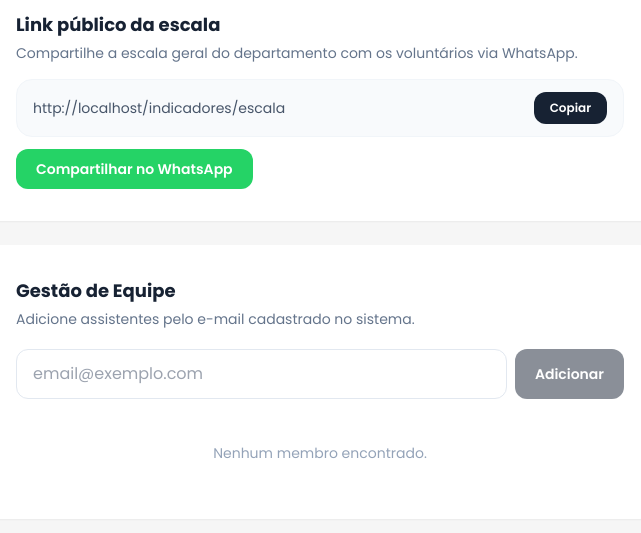
Scenario: Configuracoes › shows error when the email is not found
This screenshot has width=641, height=533.
Type "nobody@example.com" into the field with placeholder "email@exemplo.com" at (261, 374), box [16,349,507,399]
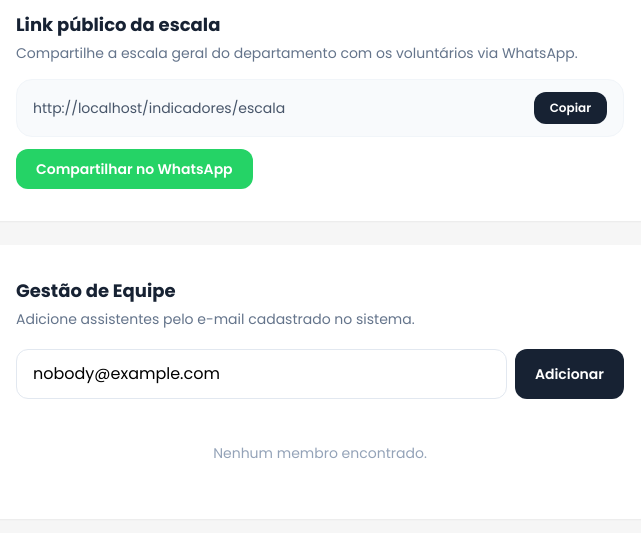
Click the button "Adicionar" at (569, 374), box [515,349,624,399]
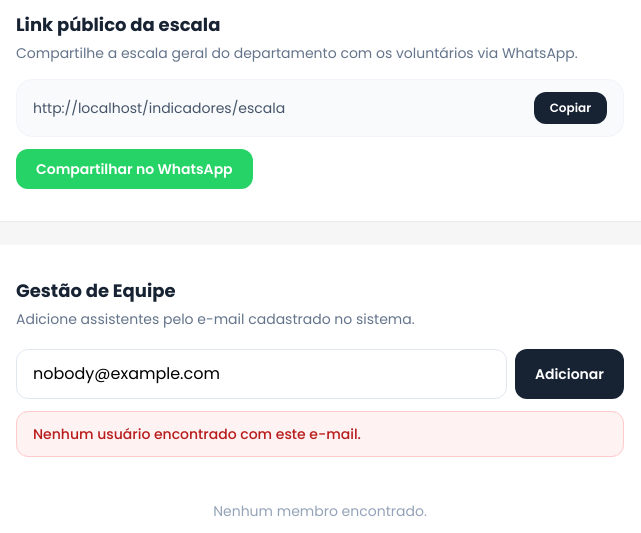
Now the text "Nenhum usuário encontrado com este e-mail." is shown, box [16,411,624,457]
